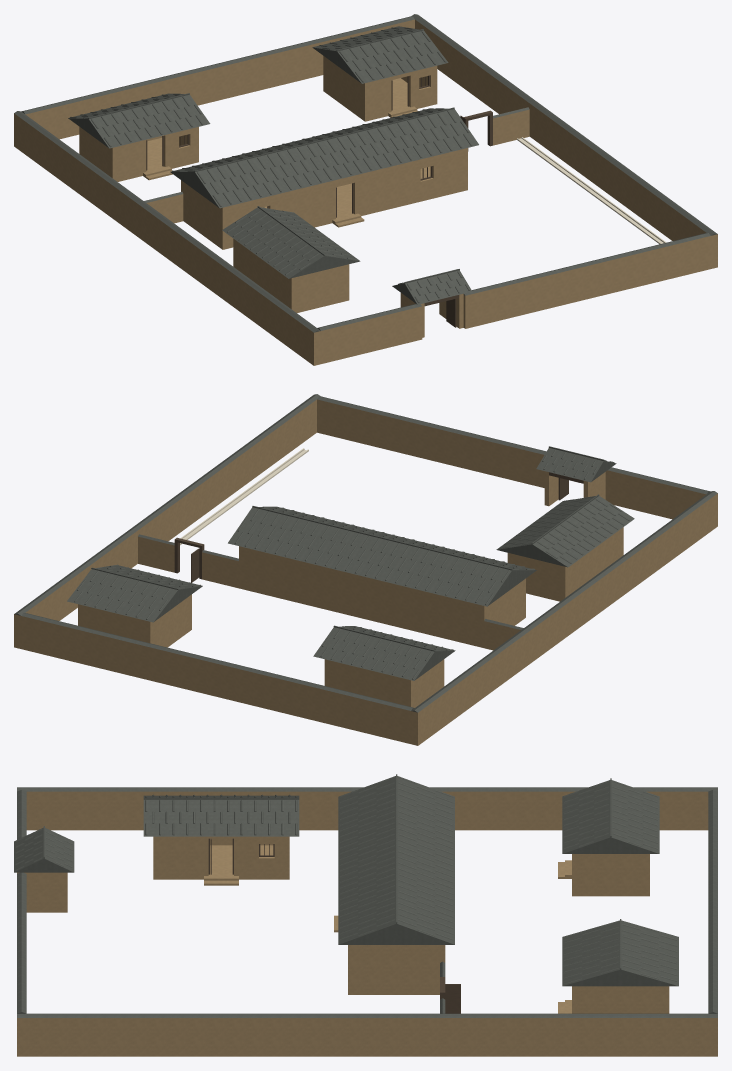
The model's file is court-TC03-2-LOD1.glb.
The picture shows the model from 3 angles, top to bottom: view 1: azimuth 30°, elevation 25°; view 2: azimuth 150°, elevation 25°; view 3: azimuth 270°, elevation 25°; orthographic projection. The views are drawn at different scales.
Visible parts, largest first — view 1: court-TC03-2-static_earth, court-TC03-2-static_tile, court-TC03-2-static_timber, court-TC03-2-static_stone; view 2: court-TC03-2-static_earth, court-TC03-2-static_tile, court-TC03-2-static_timber, court-TC03-2-static_stone; view 3: court-TC03-2-static_earth, court-TC03-2-static_tile, court-TC03-2-static_timber.
Boxes of the visible parts, box(x1,y1,x2,y2) form: court-TC03-2-static_earth: box(14, 19, 717, 365); court-TC03-2-static_tile: box(14, 14, 717, 332); court-TC03-2-static_timber: box(146, 75, 492, 327); court-TC03-2-static_stone: box(517, 137, 666, 244); court-TC03-2-static_earth: box(14, 399, 717, 745); court-TC03-2-static_tile: box(14, 394, 717, 712); court-TC03-2-static_timber: box(174, 472, 583, 582); court-TC03-2-static_stone: box(180, 448, 308, 545); court-TC03-2-static_earth: box(17, 791, 717, 1056); court-TC03-2-static_tile: box(14, 774, 717, 1017); court-TC03-2-static_timber: box(208, 838, 460, 1013).
Size of the model in its own units: 28 by 4.34 by 36.15.
Materials: 4 (3 with a texture image).
